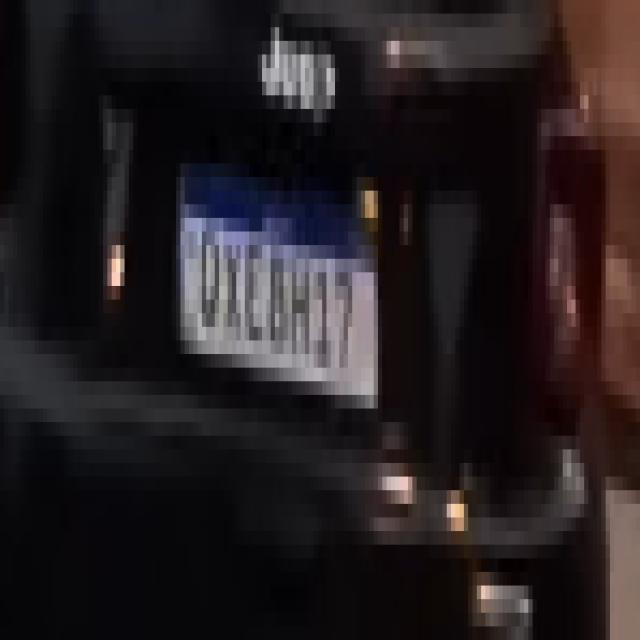Placa_mercosul_carro: (178, 168, 380, 413)
